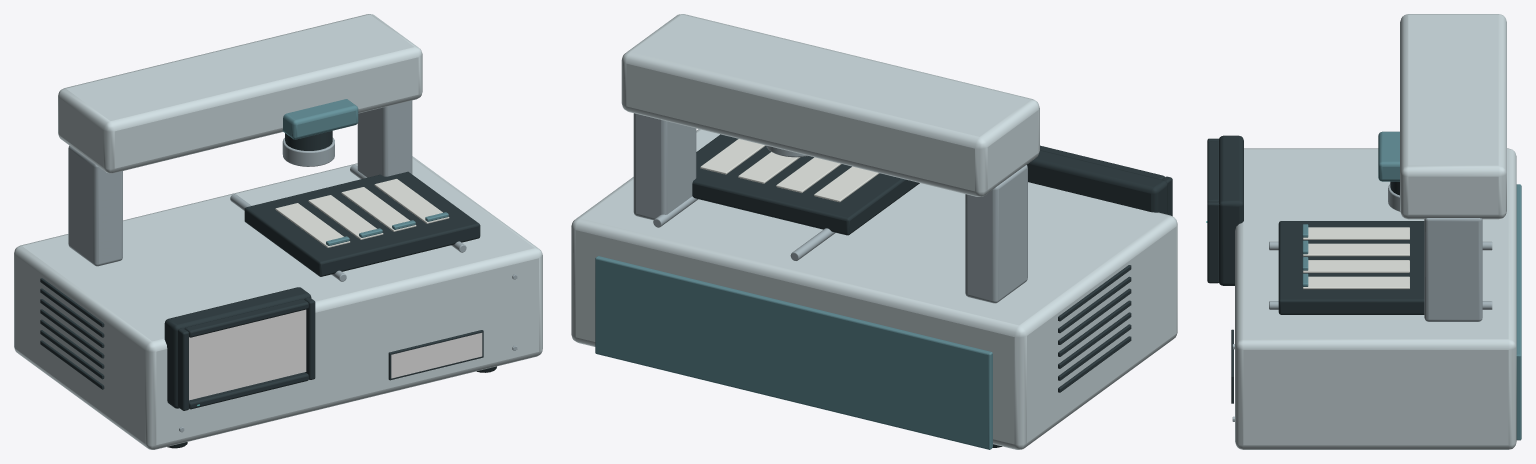
File: ID_SlideScanner.fbx
3 renders of one model, left to right at view 1: azimuth 30°, elevation 25°; view 2: azimuth 150°, elevation 25°; view 3: azimuth 270°, elevation 25°, orthographic. The views are drawn at different scales.
Visible parts, largest first — view 1: ID_SlideScanner; view 2: ID_SlideScanner; view 3: ID_SlideScanner.
Part boxes in pixels (<box>): ID_SlideScanner: <box>14,14,542,449</box>; ID_SlideScanner: <box>571,14,1177,449</box>; ID_SlideScanner: <box>1206,14,1521,449</box>.
Bounding box in the file's own units: 96.5 × 63 × 64.9.
